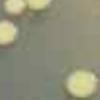yellow: (64, 69, 100, 100), (0, 18, 19, 52), (2, 0, 29, 16), (28, 0, 58, 10)
